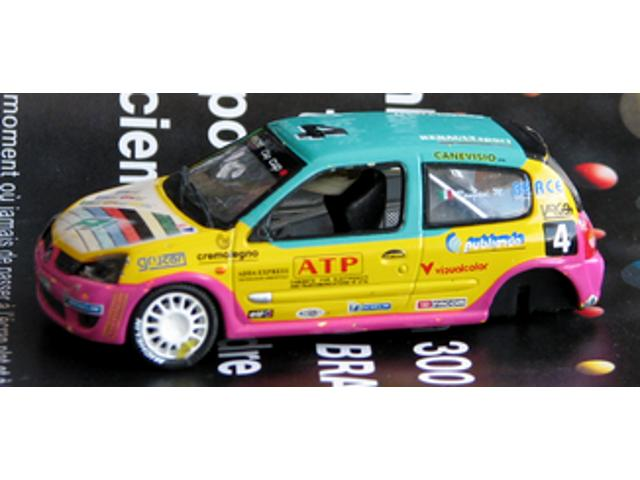toy-car: (33, 109, 607, 375)
